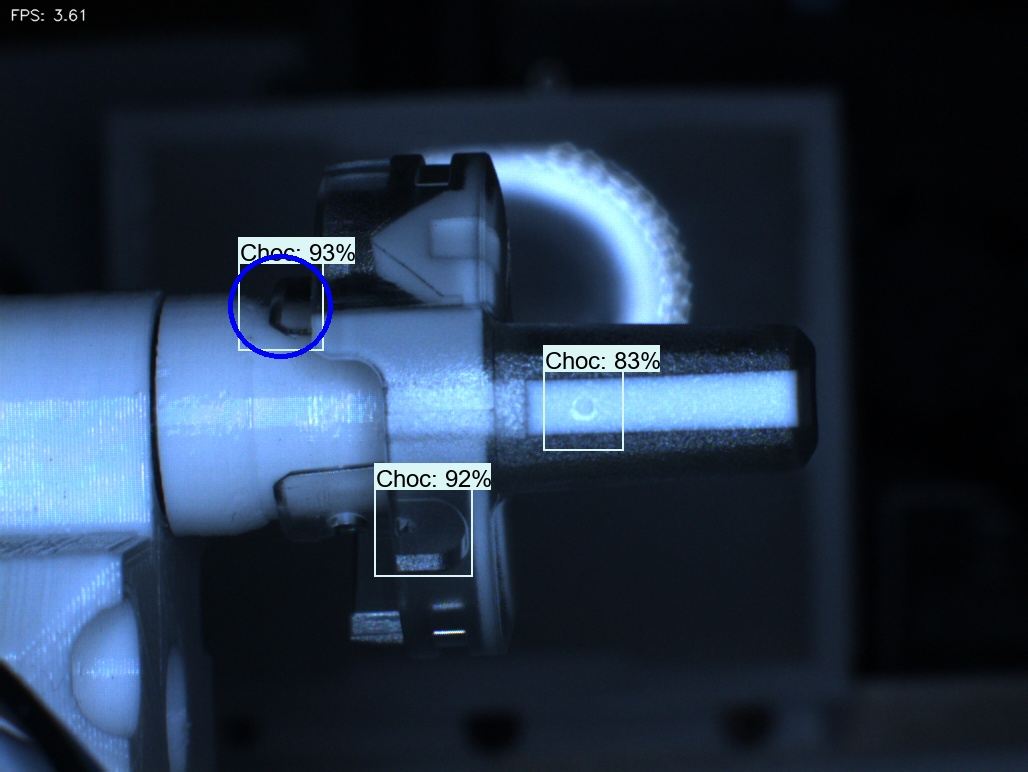DentOk: (347, 200, 423, 306)
